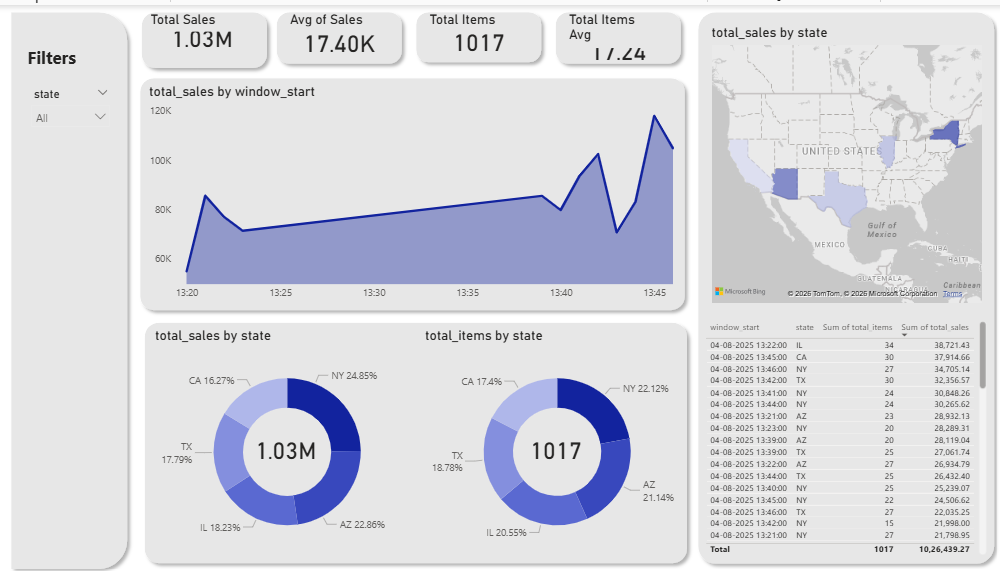

This screenshot's page, from the dashboard's own definition file:
{"tool":"powerbi","page":{"name":"Sales","canvas":[1280,720],"ordinal":0},"visuals":[{"type":"shape","box":[15.6,0,164.4,719.8],"z":0},{"type":"shape","box":[179.9,0,176,88.5],"z":0,"group":"g4"},{"type":"shape","box":[349.6,0,175.7,83.2],"z":0,"group":"g5"},{"type":"shape","box":[525.4,0,175.7,81.3],"z":0,"group":"g6"},{"type":"shape","box":[701.1,0,183.3,83.2],"z":0,"group":"g7"},{"type":"group","id":"g1","title":"Group 1","box":[881,0,391,712.9],"z":0,"group":"g9"},{"type":"shape","box":[881,0,391,712.9],"z":0,"group":"g1"},{"type":"group","id":"g2","title":"Group 1","box":[178,83.6,704.2,310.3],"z":0,"group":"g8"},{"type":"shape","box":[178,83.6,704.2,310.3],"z":0,"group":"g2"},{"type":"group","id":"g3","title":"Group 1","box":[183.8,391,701.3,321],"z":0,"group":"g10"},{"type":"shape","box":[183.8,391,701.3,321],"z":0,"group":"g3"},{"type":"group","id":"g4","title":"Group 1","box":[179.9,0,176,88.5],"z":1000},{"type":"card","title":"Total Items","fields":{"Values":["Sum(gold_orders_managed.total_items)"]},"box":[546.8,7.1,134,67.9],"z":1000,"group":"g6"},{"type":"card","title":"Avg of Sales","fields":{"Values":["Avg(gold_orders_managed.total_sales)"]},"box":[371,7.3,134,69.4],"z":1000,"group":"g5"},{"type":"card","title":"Total Items Avg","fields":{"Values":["Avg(gold_orders_managed.total_items)"]},"box":[723.4,7.3,139.8,69.4],"z":1000,"group":"g7"},{"type":"card","title":"Total Sales","fields":{"Values":["Sum(gold_orders_managed.total_sales)"]},"box":[195.1,7.6,139.8,58.6],"z":1000,"group":"g4"},{"type":"areaChart","title":"total_sales by window_start","fields":{"Y":["Sum(gold_orders_managed.total_sales)"],"Category":["gold_orders_managed.window_start"]},"box":[192.6,98.2,684.7,282.1],"z":1000,"group":"g8"},{"type":"group","id":"g5","title":"Group 1","box":[349.6,0,175.7,83.2],"z":2000},{"type":"group","id":"g6","title":"Group 1","box":[525.4,0,175.7,81.3],"z":3000},{"type":"group","id":"g7","title":"Group 1","box":[701.1,0,183.3,83.2],"z":4000},{"type":"group","id":"g8","title":"Group 2","box":[178,83.6,704.2,310.3],"z":5000},{"type":"group","id":"g9","title":"Group 2","box":[881,0,391,712.9],"z":6000},{"type":"filledMap","title":"total_sales by state","fields":{"Category":["gold_orders_managed.state"]},"box":[900.7,24.3,351.1,356],"z":7000},{"type":"tableEx","fields":{"Values":["gold_orders_managed.window_start","gold_orders_managed.state","Sum(gold_orders_managed.total_items)","Sum(gold_orders_managed.total_sales)"]},"box":[893.9,393.9,363.8,304.4],"z":8000},{"type":"group","id":"g10","title":"Group 2","box":[183.8,391,701.3,321],"z":9000},{"type":"donutChart","title":"total_items by state","fields":{"Category":["gold_orders_managed.state"],"Y":["Sum(gold_orders_managed.total_items)"]},"box":[539.8,406.6,342.4,291.8],"z":10000},{"type":"donutChart","title":"total_sales by state","fields":{"Category":["gold_orders_managed.state"],"Y":["Sum(gold_orders_managed.total_sales)"]},"box":[199.4,405.6,342.4,291.8],"z":11000},{"type":"card","fields":{"Values":["Sum(gold_orders_managed.total_sales)"]},"box":[320,518.4,101.2,81.7],"z":12000},{"type":"card","fields":{"Values":["Sum(gold_orders_managed.total_items)"]},"box":[660.4,518.4,101.2,81.7],"z":13000},{"type":"slicer","fields":{"Values":["gold_orders_managed.state"]},"box":[38.9,98.2,118.7,67.1],"z":14000},{"type":"textbox","box":[38.9,44.7,89.5,43.8],"z":15000}]}

Visuals, with their boxes in screenshot pixels (x1, y1, x2, y2), scaled from the page's 1280x720 canvas onto the 1000x571 screenshot:
shape: x1=12 y1=0 x2=141 y2=570
shape: x1=141 y1=0 x2=278 y2=70
shape: x1=273 y1=0 x2=410 y2=66
shape: x1=410 y1=0 x2=548 y2=64
shape: x1=548 y1=0 x2=691 y2=66
"Group 1" group: x1=688 y1=0 x2=994 y2=565
shape: x1=688 y1=0 x2=994 y2=565
"Group 1" group: x1=139 y1=66 x2=689 y2=312
shape: x1=139 y1=66 x2=689 y2=312
"Group 1" group: x1=144 y1=310 x2=691 y2=565
shape: x1=144 y1=310 x2=691 y2=565
"Group 1" group: x1=141 y1=0 x2=278 y2=70
"Total Items" card: x1=427 y1=6 x2=532 y2=59
"Avg of Sales" card: x1=290 y1=6 x2=395 y2=61
"Total Items Avg" card: x1=565 y1=6 x2=674 y2=61
"Total Sales" card: x1=152 y1=6 x2=262 y2=53
"total_sales by window_start" areaChart: x1=150 y1=78 x2=685 y2=302
"Group 1" group: x1=273 y1=0 x2=410 y2=66
"Group 1" group: x1=410 y1=0 x2=548 y2=64
"Group 1" group: x1=548 y1=0 x2=691 y2=66
"Group 2" group: x1=139 y1=66 x2=689 y2=312
"Group 2" group: x1=688 y1=0 x2=994 y2=565
"total_sales by state" filledMap: x1=704 y1=19 x2=978 y2=302
tableEx - gold_orders_managed.window_start x gold_orders_managed.state: x1=698 y1=312 x2=983 y2=554
"Group 2" group: x1=144 y1=310 x2=691 y2=565
"total_items by state" donutChart: x1=422 y1=322 x2=689 y2=554
"total_sales by state" donutChart: x1=156 y1=322 x2=423 y2=553
card - Sum(gold_orders_managed.total_sales): x1=250 y1=411 x2=329 y2=476
card - Sum(gold_orders_managed.total_items): x1=516 y1=411 x2=595 y2=476
slicer - gold_orders_managed.state: x1=30 y1=78 x2=123 y2=131
textbox: x1=30 y1=35 x2=100 y2=70
